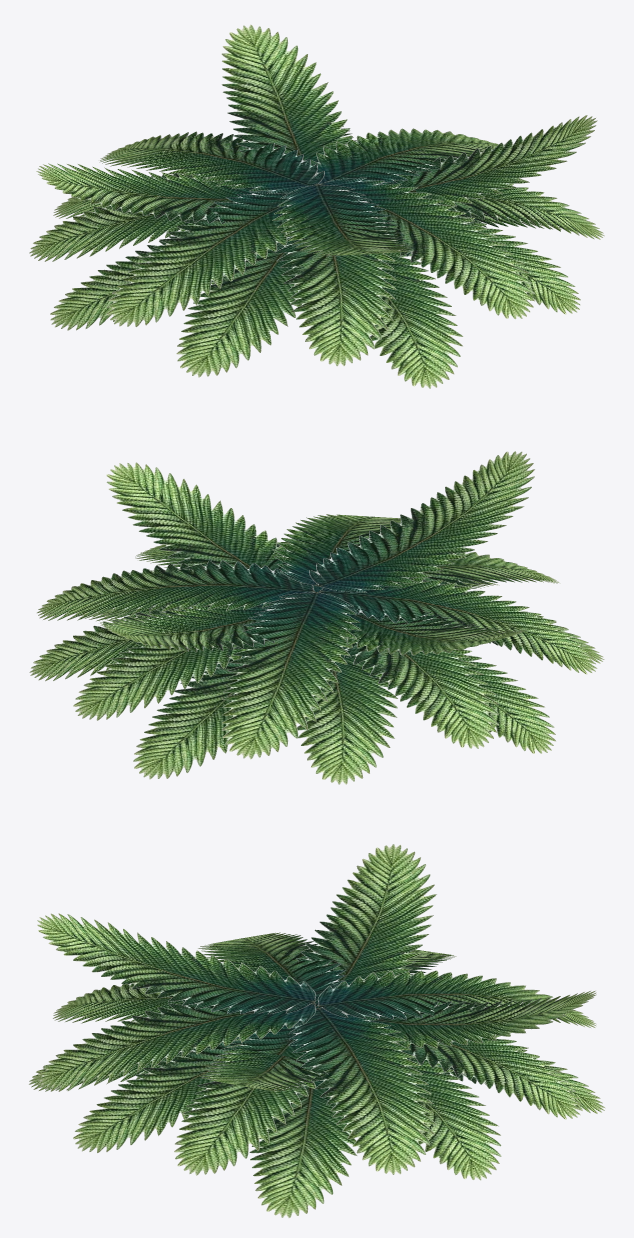
The model's file is Fern.fbx.
3 renders of one model, top to bottom at view 1: azimuth 30°, elevation 25°; view 2: azimuth 150°, elevation 25°; view 3: azimuth 270°, elevation 25°, orthographic.
Visible parts, largest first — view 1: Plant cutout4; view 2: Plant cutout4; view 3: Plant cutout4.
Boxes of the visible parts, x1=… form: Plant cutout4: x1=29, y1=24, x2=604, y2=388; Plant cutout4: x1=29, y1=451, x2=604, y2=784; Plant cutout4: x1=29, y1=844, x2=605, y2=1217.
Bounding box in the file's own units: 178 × 48.44 × 178.
